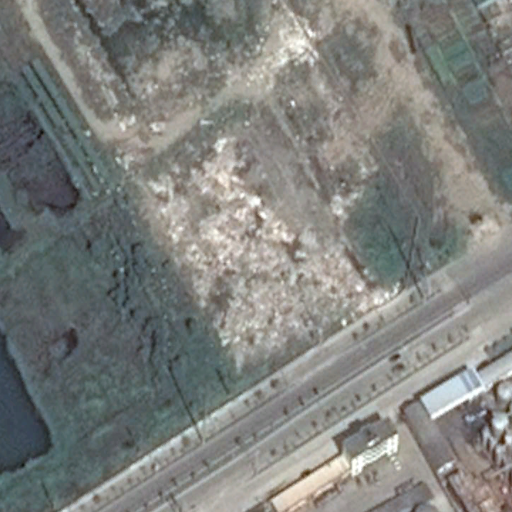msw: (152, 140, 406, 364)
